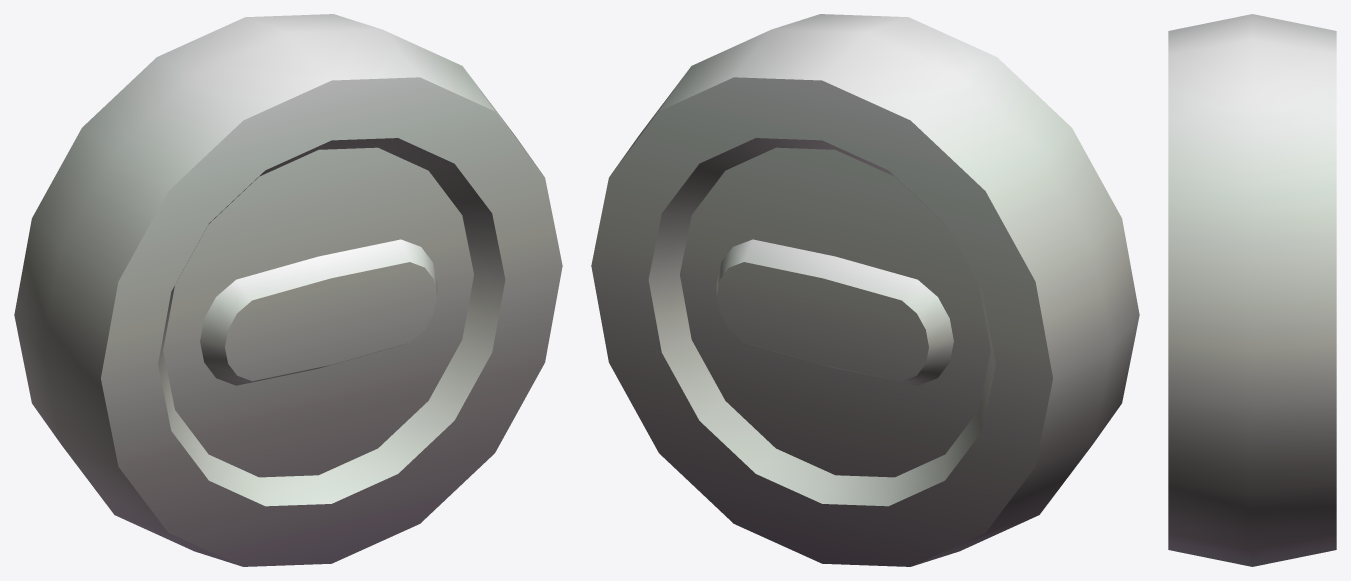
File: Silver_Coin_03.glb
3 renders of one model, left to right at view 1: azimuth 30°, elevation 25°; view 2: azimuth 150°, elevation 25°; view 3: azimuth 270°, elevation 25°, orthographic. The views are drawn at different scales.
Parts seen in each view (by area): view 1: Silver_Coin_03; view 2: Silver_Coin_03; view 3: Silver_Coin_03.
Boxes of the visible parts, x1=… form: Silver_Coin_03: x1=14, y1=14, x2=562, y2=566; Silver_Coin_03: x1=591, y1=14, x2=1139, y2=566; Silver_Coin_03: x1=1168, y1=14, x2=1336, y2=566.
Size of the model in its own units: 0.4853 by 0.4853 by 0.1478.
1 material, 1 textured.
